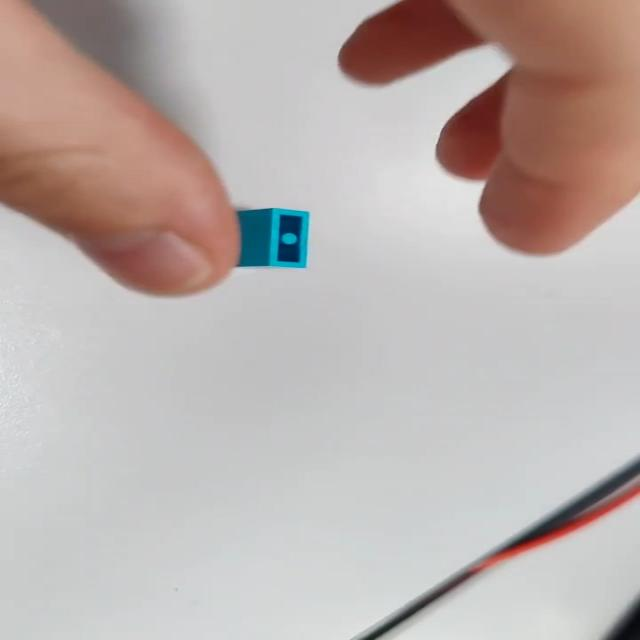C2x1x1: (234, 207, 310, 269)
